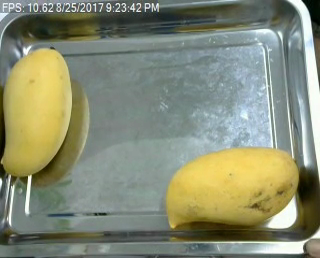Mango: (167, 144, 301, 232), (0, 43, 72, 178)
